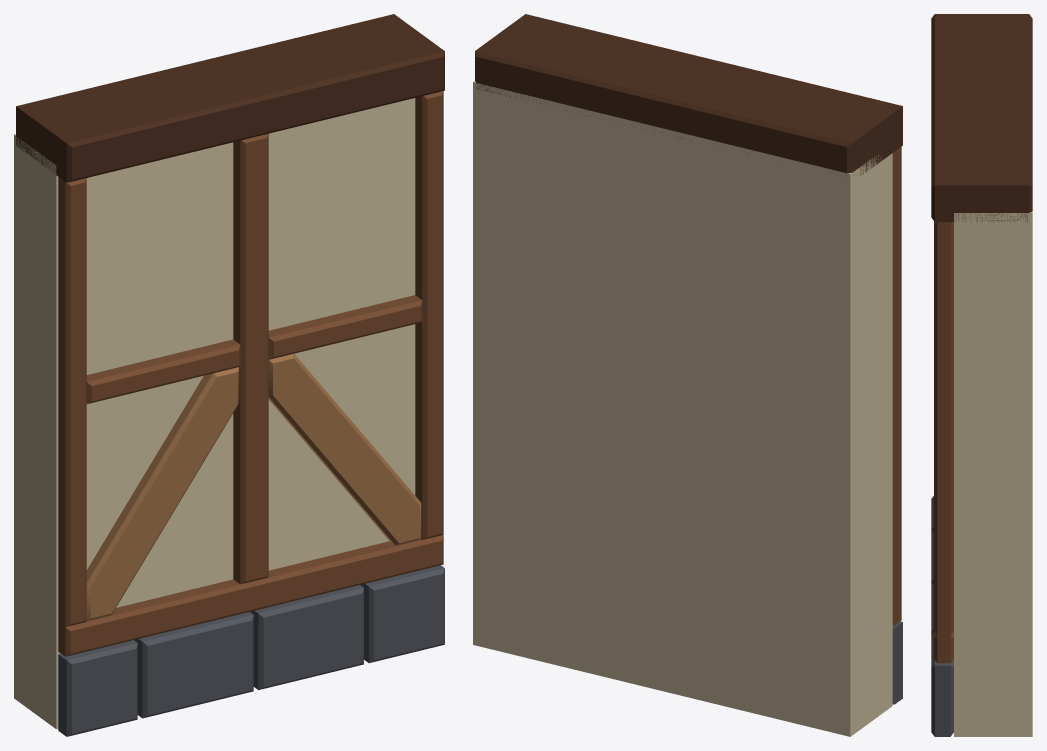
Rendered from WallStraight_11.glb.
3 renders of one model, left to right at view 1: azimuth 30°, elevation 25°; view 2: azimuth 150°, elevation 25°; view 3: azimuth 270°, elevation 25°, orthographic. The views are drawn at different scales.
Visible parts, largest first — view 1: WallStraight_11; view 2: WallStraight_11; view 3: WallStraight_11.
Part boxes in pixels (x1=…): WallStraight_11: x1=14, y1=14, x2=444, y2=736; WallStraight_11: x1=473, y1=14, x2=902, y2=736; WallStraight_11: x1=931, y1=14, x2=1032, y2=736.
Bounding box in the file's own units: 8 × 12 × 2.
